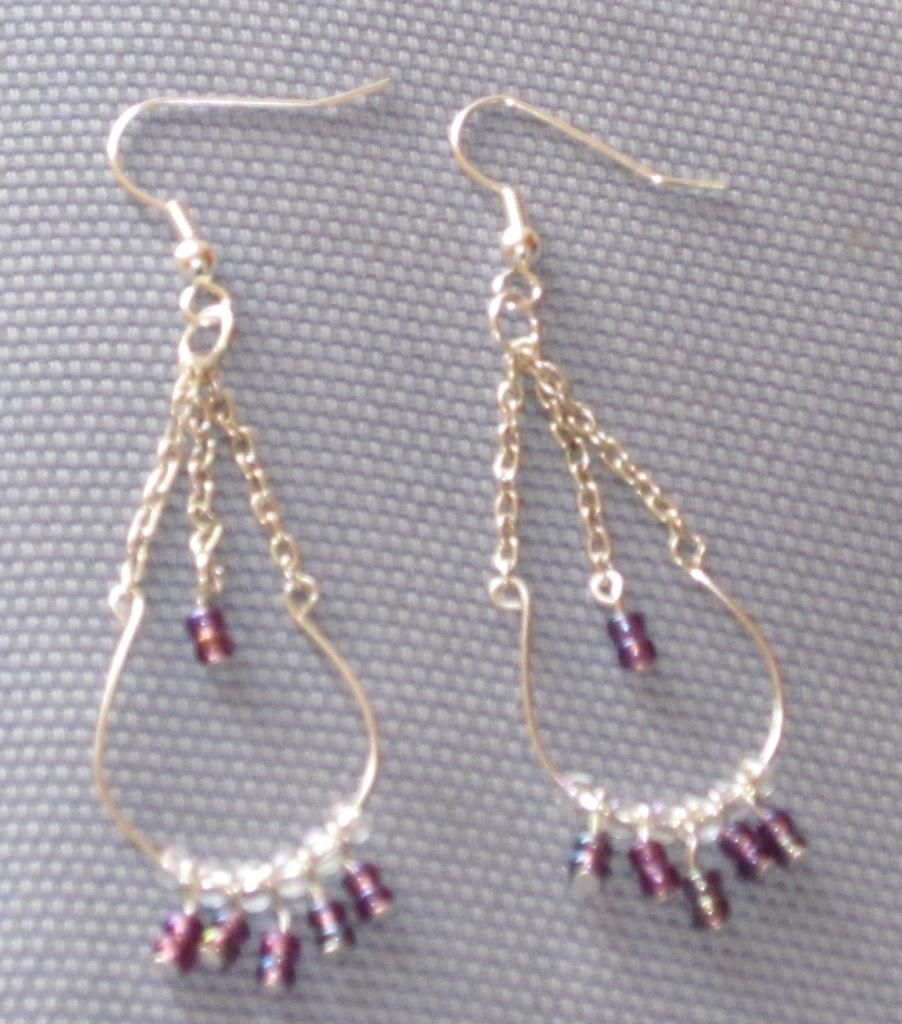earrings: (444, 84, 819, 939), (85, 71, 391, 999)
